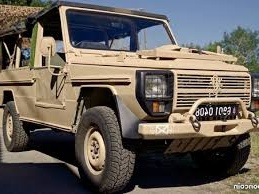license_plate: (194, 104, 237, 120)
